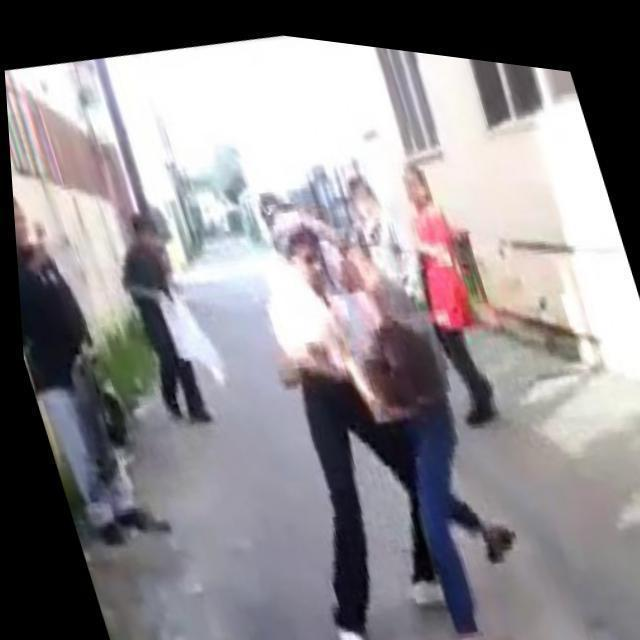fight: (186, 129, 554, 640)
